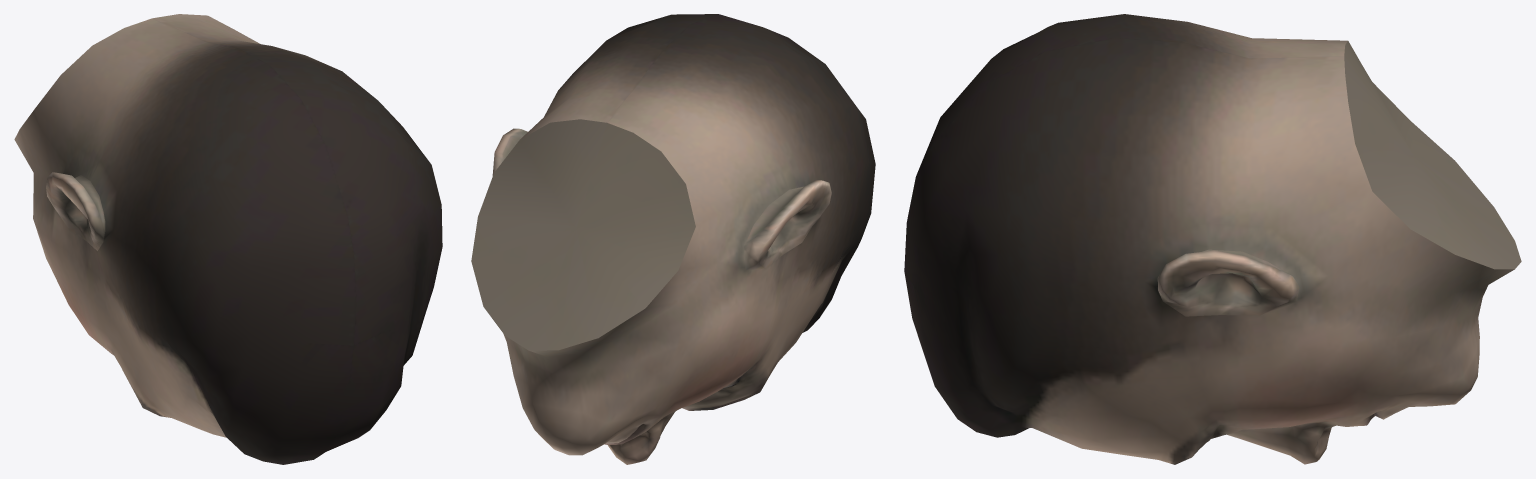
Rendered from dest_nt_nuked_male_03_head_LOD0.obj.
The picture shows the model from 3 angles, left to right: view 1: azimuth 30°, elevation 25°; view 2: azimuth 150°, elevation 25°; view 3: azimuth 270°, elevation 25°; orthographic projection. The views are drawn at different scales.
Visible parts, largest first — view 1: mtl_nt_2020_manne_male01_head1; view 2: mtl_nt_2020_manne_male01_head1; view 3: mtl_nt_2020_manne_male01_head1.
Part boxes in pixels (x1,y1,x2,y2): mtl_nt_2020_manne_male01_head1: [14, 14, 442, 464]; mtl_nt_2020_manne_male01_head1: [471, 14, 875, 464]; mtl_nt_2020_manne_male01_head1: [904, 14, 1521, 464].
Size of the model in its own units: 19.35 by 22.59 by 28.8.
